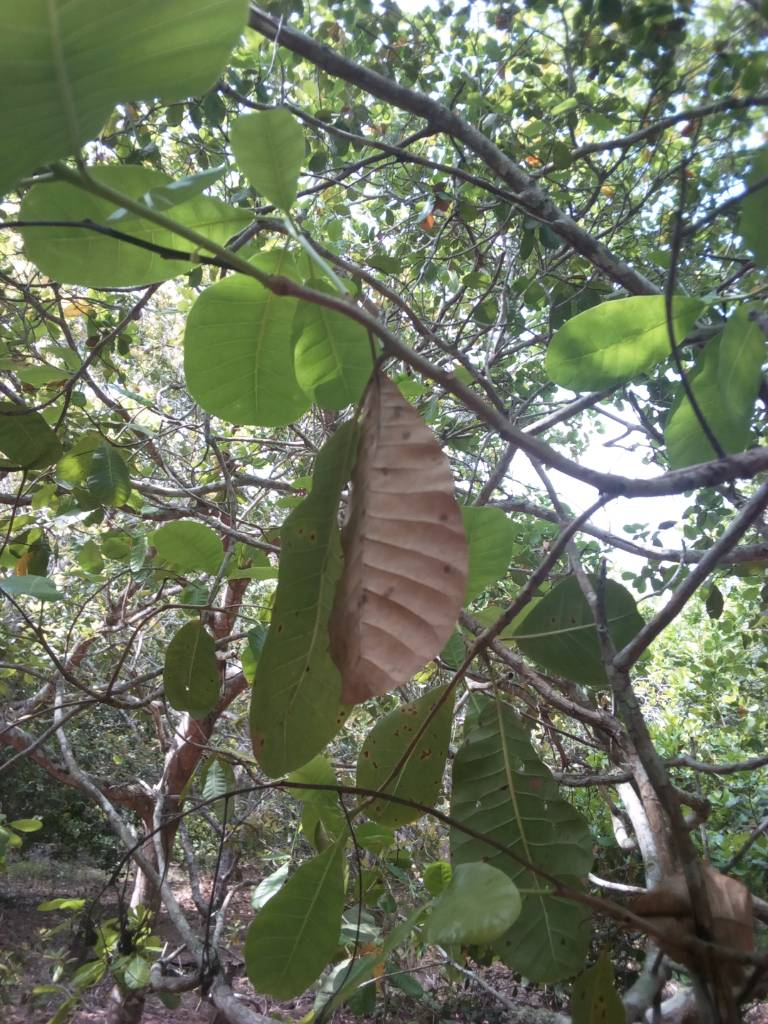Pestalotiose: (263, 439, 340, 767), (355, 688, 458, 817)
